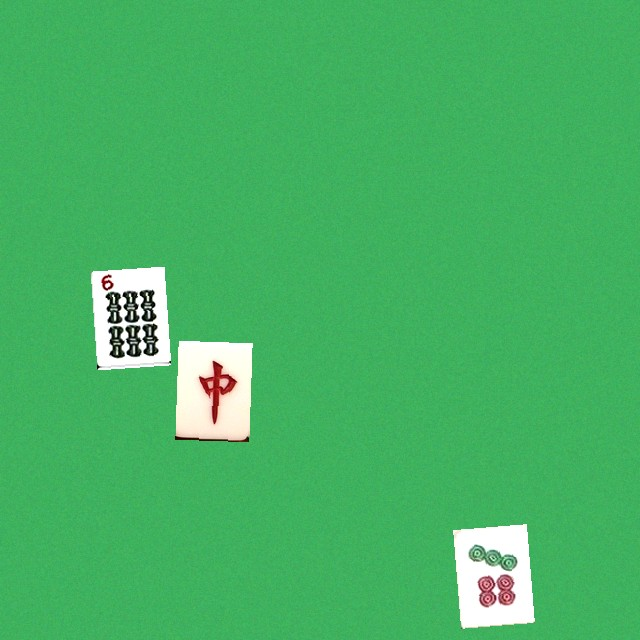tile: (453, 524, 527, 623), (175, 340, 249, 439), (90, 266, 164, 365)
